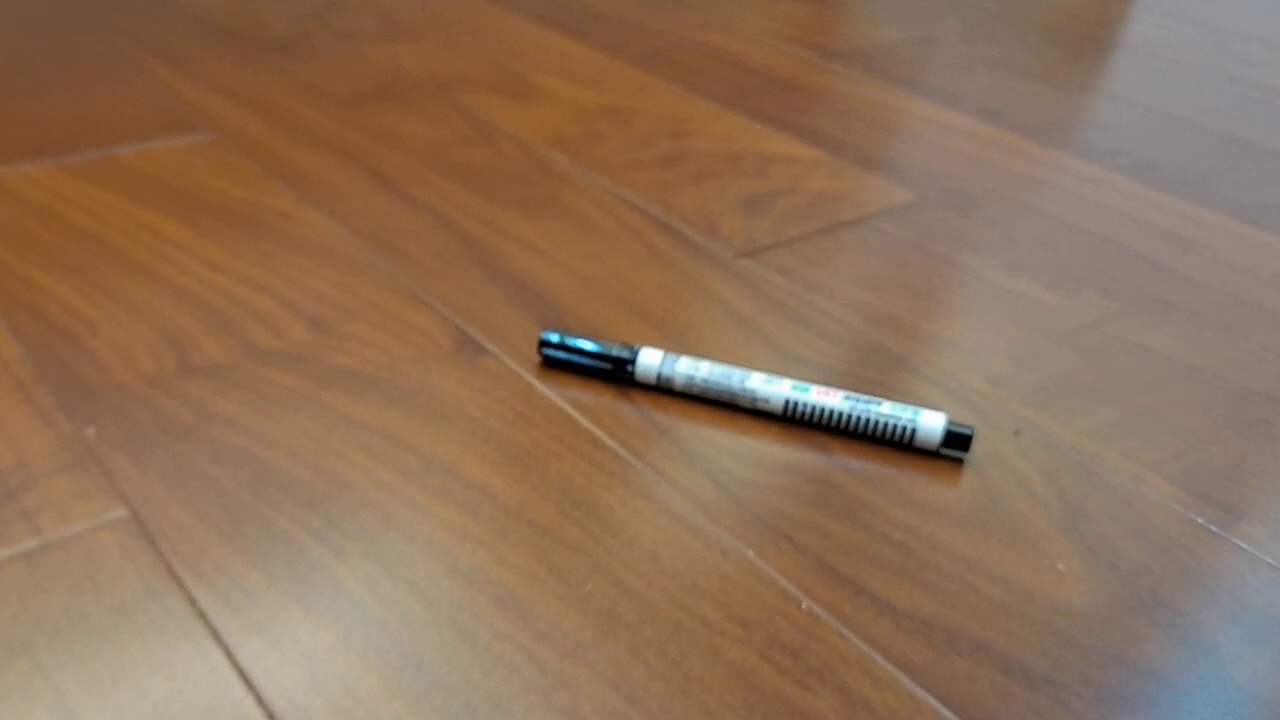pen: (536, 326, 975, 454)
